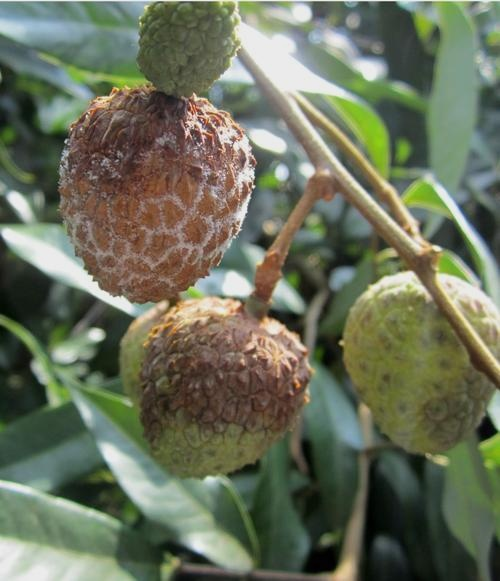Frost_Blight: (54, 102, 230, 285), (171, 293, 308, 430)
